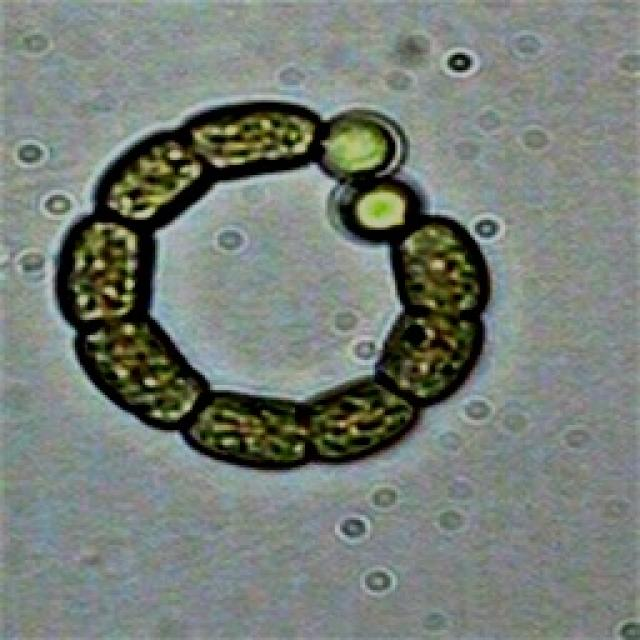Anabaena: (57, 98, 497, 470)
